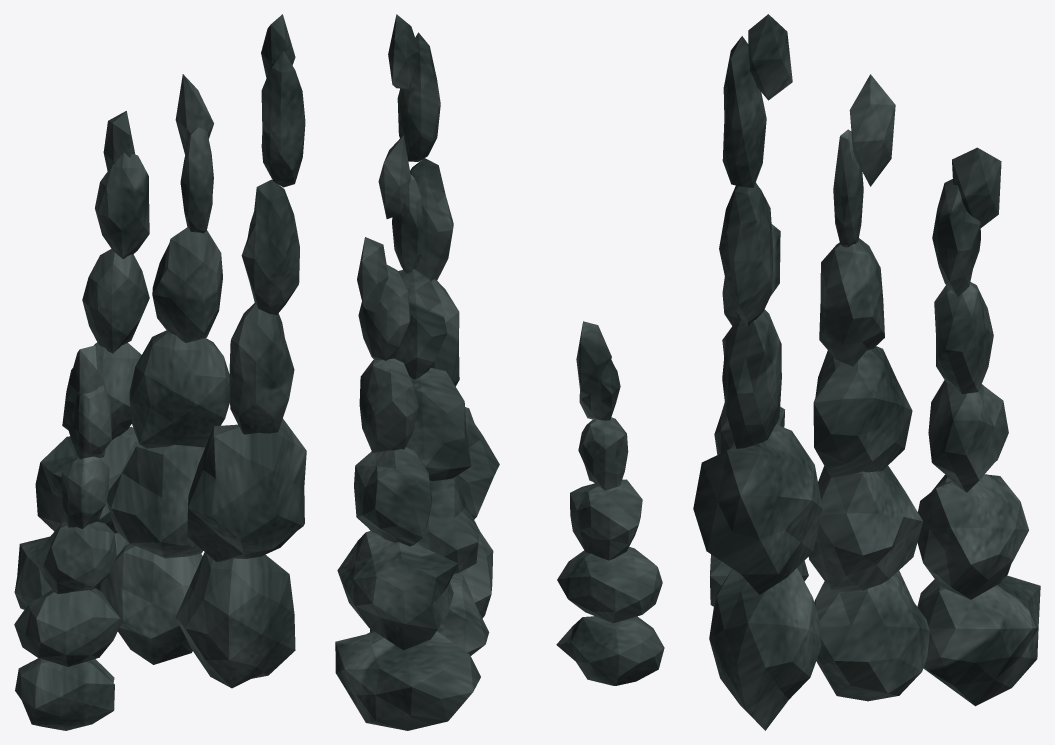
Rendered from 0053_rock_spire_03.glb.
3 renders of one model, left to right at view 1: azimuth 30°, elevation 25°; view 2: azimuth 150°, elevation 25°; view 3: azimuth 270°, elevation 25°, orthographic. The views are drawn at different scales.
Visible parts, largest first — view 1: stone_dark; view 2: stone_dark; view 3: stone_dark.
Part boxes in pixels (left/top/right/bottom): stone_dark: left=14, top=14, right=306, bottom=730; stone_dark: left=335, top=14, right=664, bottom=730; stone_dark: left=693, top=14, right=1040, bottom=730.
Bounding box in the file's own units: 1.67 × 3.71 × 1.6.
Materials: 1 (1 with a texture image).
